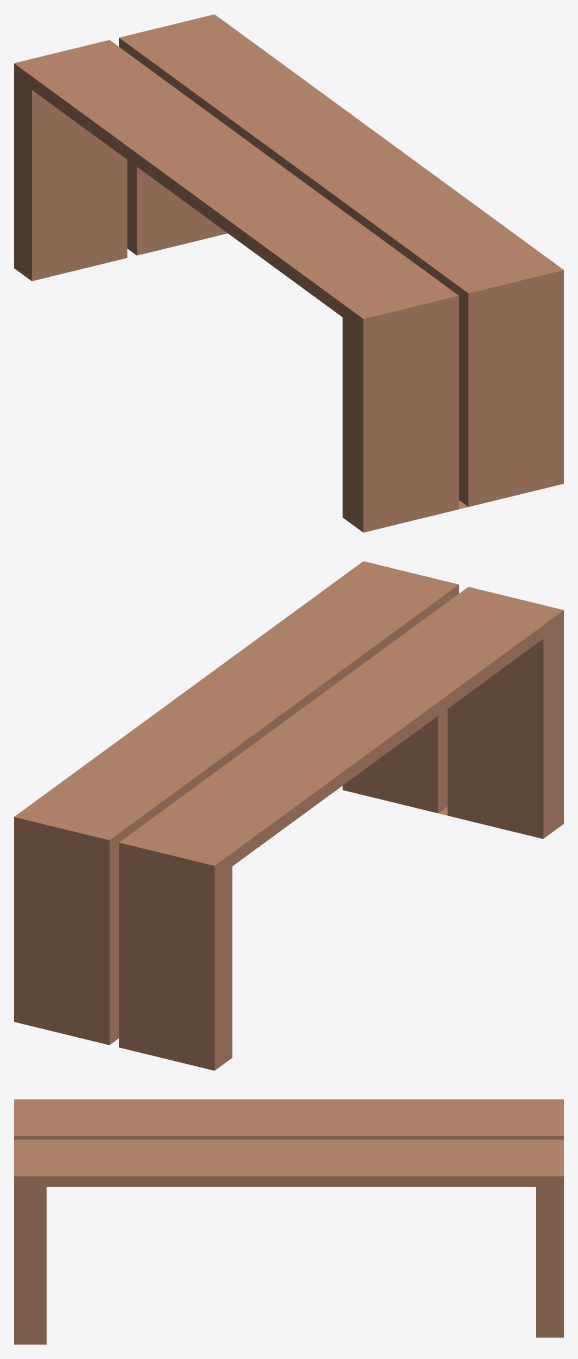
The model's file is Bank.fbx.
3 views of the same model, one above another, from view 1: azimuth 30°, elevation 25°; view 2: azimuth 150°, elevation 25°; view 3: azimuth 270°, elevation 25° (orthographic). The views are drawn at different scales.
Visible parts, largest first — view 1: Bench.003; view 2: Bench.003; view 3: Bench.003.
Part boxes in pixels (x1=…): Bench.003: x1=14, y1=14, x2=563, y2=532; Bench.003: x1=14, y1=561, x2=563, y2=1070; Bench.003: x1=14, y1=1099, x2=563, y2=1344.
Size of the model in its own units: 110 by 112 by 333.
